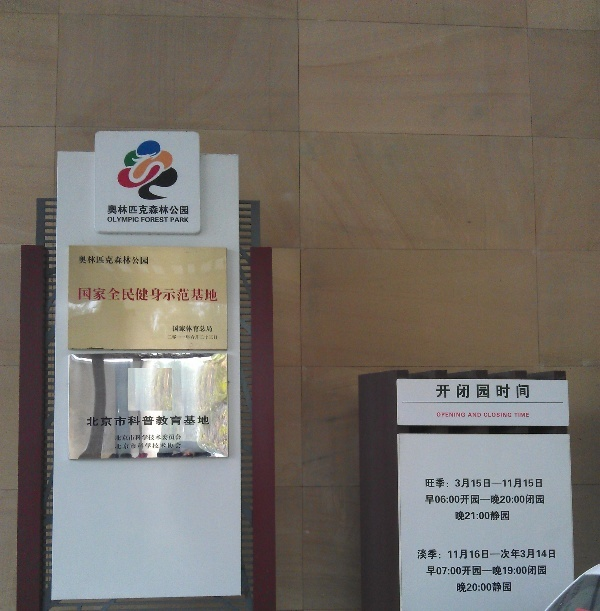text: (81, 286, 96, 303), (97, 286, 112, 303), (113, 286, 128, 303), (129, 286, 144, 303), (145, 286, 160, 303), (161, 286, 176, 303), (177, 286, 192, 303), (193, 286, 208, 303), (449, 384, 464, 399), (465, 384, 480, 399), (481, 384, 496, 399), (497, 384, 512, 399), (513, 384, 528, 399), (97, 415, 112, 428), (113, 415, 128, 428), (129, 415, 144, 428), (145, 415, 160, 428), (161, 415, 176, 428), (177, 415, 192, 428), (193, 415, 208, 428), (497, 582, 513, 594), (436, 384, 448, 399), (433, 565, 448, 577), (449, 565, 464, 577), (465, 565, 480, 577), (481, 565, 496, 577), (497, 565, 512, 577), (513, 565, 528, 577), (529, 565, 544, 577), (465, 582, 480, 594), (481, 582, 496, 594), (209, 286, 219, 303), (113, 205, 128, 216), (129, 205, 144, 216), (145, 205, 160, 216), (161, 205, 176, 216), (81, 255, 96, 266), (97, 255, 112, 266), (113, 255, 128, 266), (129, 255, 144, 266), (433, 478, 448, 489), (449, 478, 464, 489), (465, 478, 480, 489), (481, 478, 496, 489), (497, 478, 512, 489), (513, 478, 528, 489), (417, 549, 432, 560), (433, 549, 448, 560), (449, 549, 464, 560), (465, 549, 480, 560), (481, 549, 496, 560), (497, 549, 512, 560), (513, 549, 528, 560), (529, 549, 544, 560), (529, 495, 545, 505), (529, 478, 543, 489), (433, 495, 448, 505), (449, 495, 464, 505), (465, 495, 480, 505), (481, 495, 496, 505), (497, 495, 512, 505), (513, 495, 528, 505), (465, 511, 480, 521), (481, 511, 496, 521), (177, 205, 190, 216), (497, 511, 511, 521), (545, 549, 557, 560), (177, 325, 192, 333), (193, 325, 208, 333), (129, 434, 144, 442), (145, 434, 160, 442), (161, 434, 176, 442), (87, 415, 96, 428), (129, 443, 144, 450), (145, 443, 160, 450), (161, 443, 176, 450), (115, 434, 128, 442), (456, 582, 464, 594), (113, 217, 128, 223), (177, 335, 192, 341), (193, 335, 208, 341), (145, 217, 160, 223), (116, 443, 128, 450), (456, 511, 464, 521), (497, 413, 513, 418), (425, 478, 432, 489), (449, 413, 464, 418), (426, 565, 432, 577), (177, 217, 189, 223), (425, 495, 432, 505), (514, 413, 528, 418), (76, 286, 80, 303), (129, 217, 140, 223), (468, 413, 480, 418), (484, 413, 496, 418), (107, 205, 112, 216), (145, 255, 150, 266), (437, 413, 448, 418), (209, 335, 218, 341), (168, 335, 176, 341), (161, 217, 169, 223), (177, 434, 182, 442), (177, 443, 182, 450), (172, 325, 176, 333), (209, 325, 213, 333), (171, 217, 176, 223), (108, 217, 112, 223), (545, 565, 547, 577), (78, 255, 80, 266), (141, 217, 144, 223), (529, 384, 530, 399), (209, 415, 210, 428), (465, 413, 466, 418), (481, 413, 482, 418), (529, 413, 530, 418)
